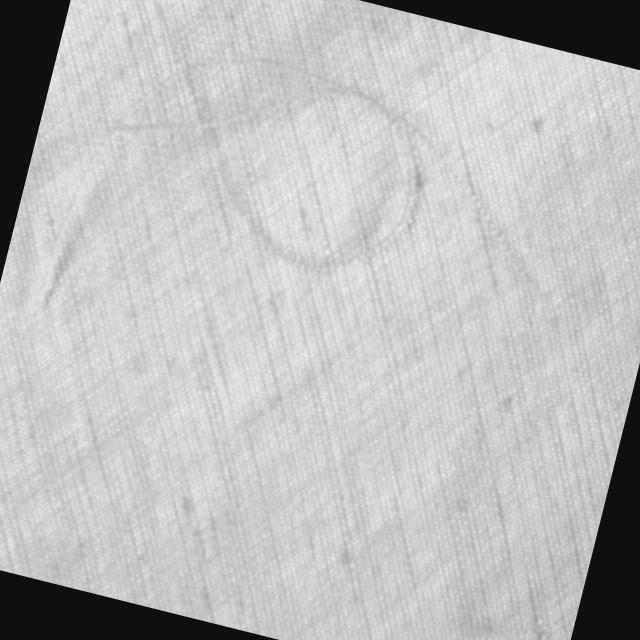objects: (24, 6, 570, 432)
